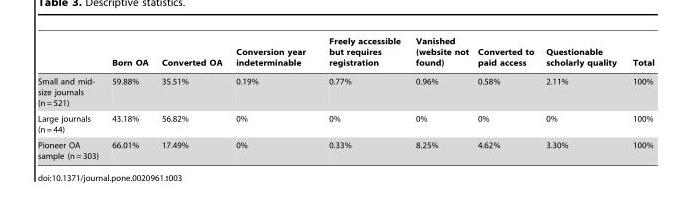table: (37, 36, 653, 160)
table column: (316, 36, 407, 160), (228, 36, 316, 160), (539, 36, 623, 160), (154, 36, 228, 160), (37, 36, 104, 160), (472, 36, 539, 160), (407, 36, 472, 160), (104, 36, 154, 160), (623, 36, 653, 160)
table column header: (37, 36, 653, 71)
table row: (37, 71, 653, 110), (37, 36, 653, 71), (37, 110, 653, 137), (37, 137, 653, 160)
